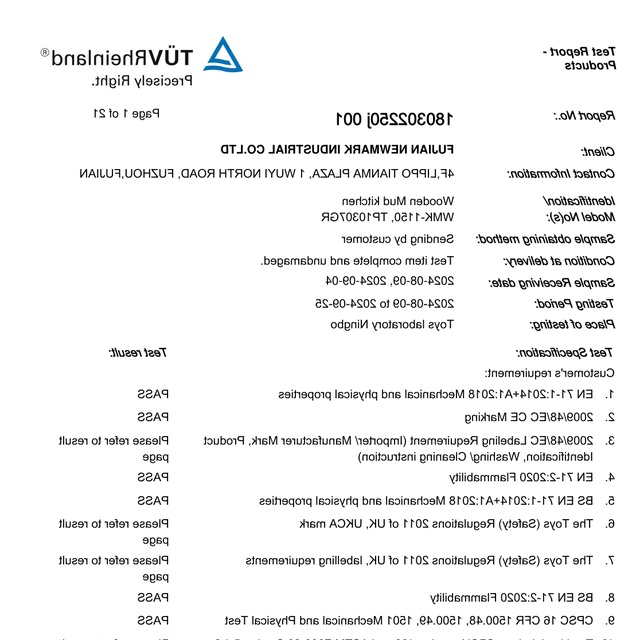tuv_rheinland: (40, 34, 254, 76)
